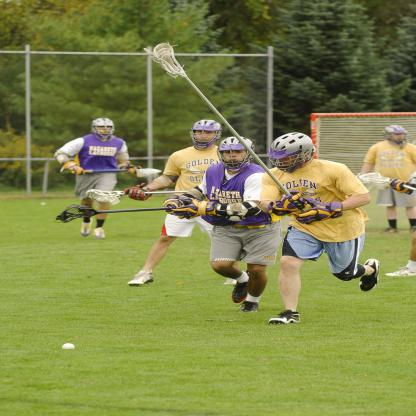Helmet: (270, 131, 321, 168), (214, 136, 254, 172), (192, 121, 223, 148), (381, 123, 411, 145), (92, 117, 119, 139)
